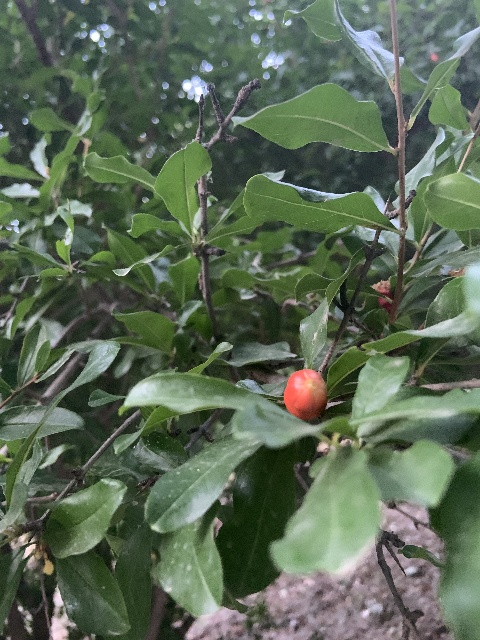bud: (283, 368, 327, 420)
